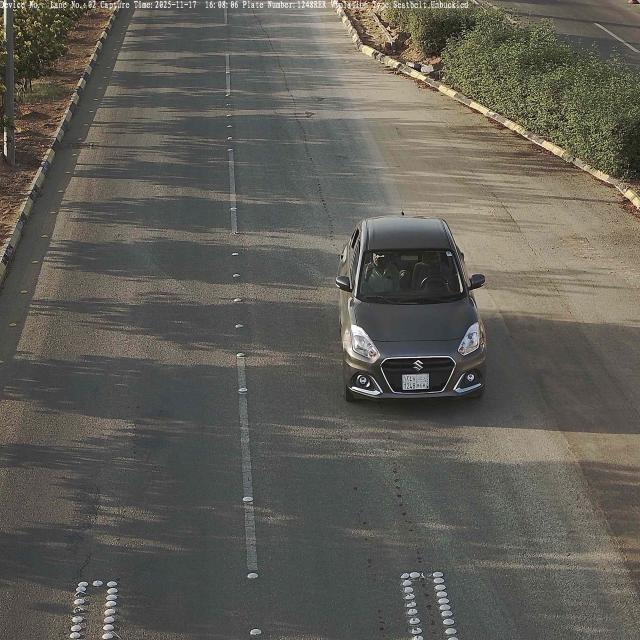person_without_seatbelt: (415, 252, 454, 290)
